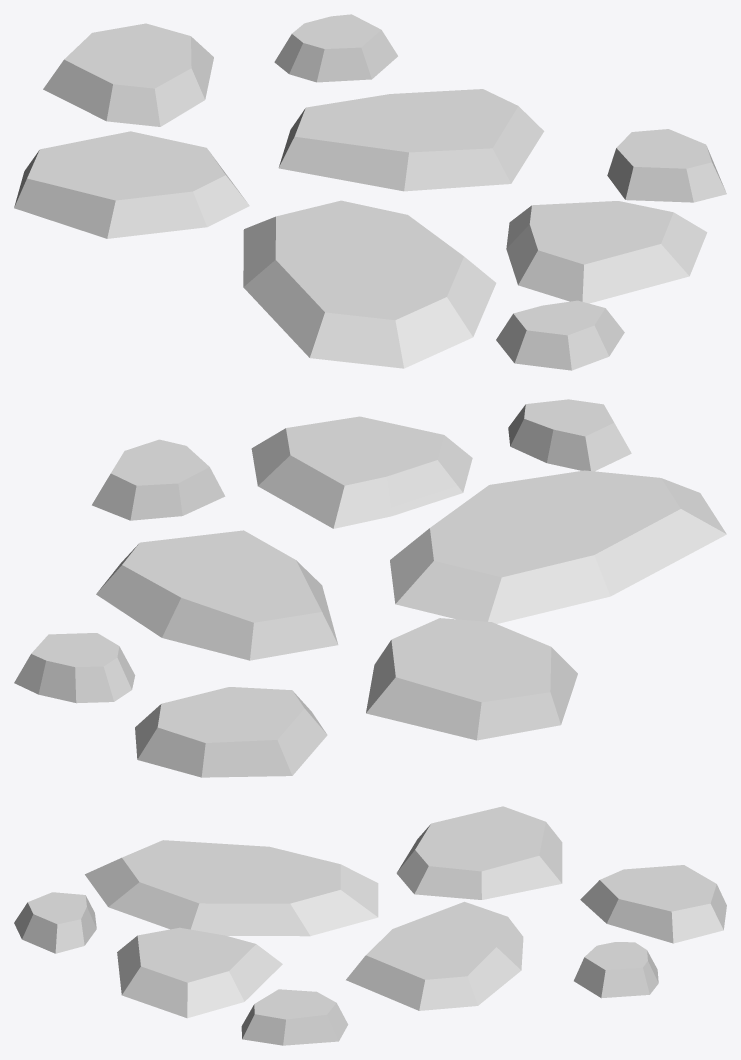
File: stone_003.fbx
3 views of the same model, one above another, from view 1: azimuth 30°, elevation 25°; view 2: azimuth 150°, elevation 25°; view 3: azimuth 270°, elevation 25° (orthographic). The views are drawn at different scales.
Parts seen in each view (by area): view 1: stone.003; view 2: stone.003; view 3: stone.003.
Boxes of the visible parts, x1=… form: stone.003: x1=14, y1=14, x2=726, y2=370; stone.003: x1=14, y1=399, x2=726, y2=777; stone.003: x1=14, y1=806, x2=726, y2=1045.
Bounding box in the file's own units: 380 × 17.94 × 516.
Materials: 1 (1 with a texture image).
